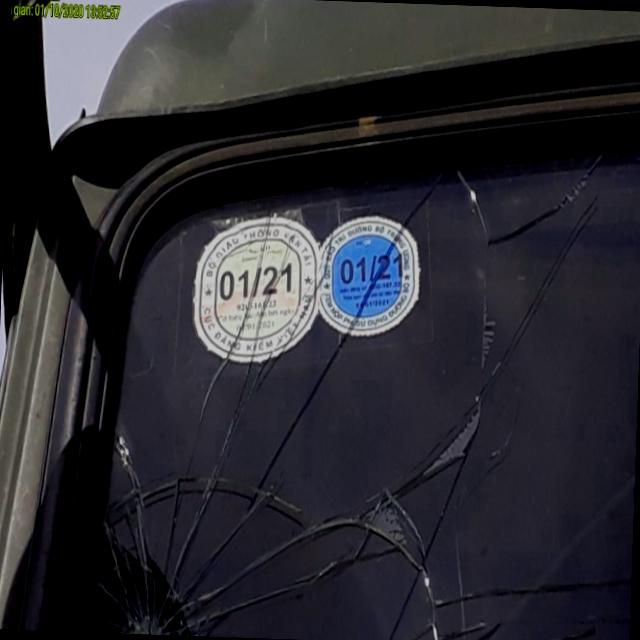Fissure: (95, 157, 454, 640), (185, 503, 438, 635), (437, 170, 500, 524), (99, 438, 167, 635), (331, 450, 444, 537), (441, 503, 481, 640)
